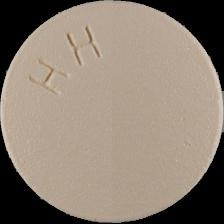43547-276: (0, 0, 224, 224)
